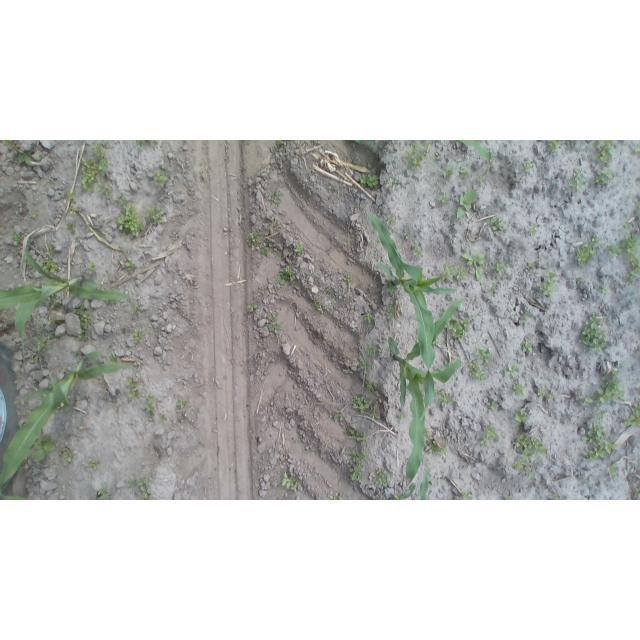Maize: (1, 352, 138, 500), (364, 208, 456, 422), (390, 297, 467, 483), (1, 246, 136, 349), (460, 141, 490, 178), (393, 472, 429, 500), (354, 140, 371, 144)
Weeds: (608, 234, 639, 283), (79, 143, 107, 190), (584, 375, 625, 407), (117, 195, 143, 237), (582, 311, 607, 353), (512, 434, 548, 457), (576, 235, 599, 267), (33, 434, 56, 463), (461, 254, 484, 283), (73, 307, 92, 342), (128, 475, 153, 499), (457, 189, 477, 219), (447, 317, 469, 341), (581, 422, 605, 443), (594, 140, 615, 164), (441, 264, 466, 282), (406, 145, 423, 169), (482, 426, 500, 447), (570, 168, 587, 189), (126, 376, 139, 403), (39, 321, 57, 340), (283, 472, 300, 492), (14, 147, 33, 164), (143, 395, 155, 421), (352, 394, 369, 412), (596, 168, 615, 184), (372, 469, 389, 486), (501, 362, 519, 378), (345, 426, 365, 440), (279, 264, 293, 284), (469, 363, 486, 379), (514, 407, 530, 423), (349, 464, 364, 481), (268, 316, 283, 333), (537, 387, 555, 401), (43, 258, 61, 272), (361, 174, 380, 187), (136, 141, 158, 152), (62, 447, 77, 463), (153, 171, 168, 187), (475, 348, 492, 362), (147, 205, 161, 222), (350, 450, 369, 462), (268, 190, 284, 204), (544, 269, 558, 285), (98, 183, 115, 196), (546, 140, 563, 153), (96, 484, 110, 498), (246, 232, 260, 246), (491, 217, 505, 231), (440, 393, 455, 406), (541, 284, 556, 297), (631, 401, 639, 425), (124, 260, 137, 274), (368, 405, 380, 420), (49, 296, 62, 309), (621, 414, 633, 427), (521, 341, 533, 354), (429, 443, 441, 456), (36, 336, 47, 350), (513, 382, 525, 394), (366, 344, 378, 356), (607, 464, 618, 477), (62, 191, 75, 202), (135, 332, 146, 345), (86, 261, 97, 274), (583, 449, 595, 460), (593, 447, 605, 458), (594, 407, 605, 419), (313, 300, 323, 313), (495, 262, 505, 275), (357, 360, 366, 374), (605, 443, 616, 454), (527, 467, 537, 479), (293, 244, 303, 256), (385, 305, 393, 320), (601, 283, 611, 295), (366, 381, 375, 394), (462, 490, 473, 500), (260, 245, 270, 256), (365, 314, 375, 325), (486, 400, 498, 409), (3, 141, 15, 150), (459, 167, 471, 176), (177, 399, 187, 409), (67, 223, 76, 234), (333, 412, 344, 421), (421, 141, 430, 152), (413, 246, 422, 257), (528, 225, 537, 236), (68, 206, 80, 214), (516, 459, 525, 469), (388, 283, 397, 293), (444, 167, 453, 177), (525, 263, 536, 271), (29, 354, 38, 363), (392, 176, 401, 185), (90, 459, 98, 469), (13, 233, 23, 241), (344, 275, 352, 284), (385, 215, 394, 223), (30, 210, 38, 218), (397, 411, 405, 419), (523, 162, 531, 170), (248, 304, 255, 313), (266, 240, 273, 248), (520, 315, 528, 322), (439, 196, 447, 203), (403, 231, 410, 239), (625, 223, 632, 230), (429, 154, 435, 162), (632, 147, 640, 153), (577, 277, 583, 284), (353, 159, 360, 165), (276, 141, 284, 146), (327, 286, 333, 292), (491, 284, 497, 290), (505, 496, 513, 500)
